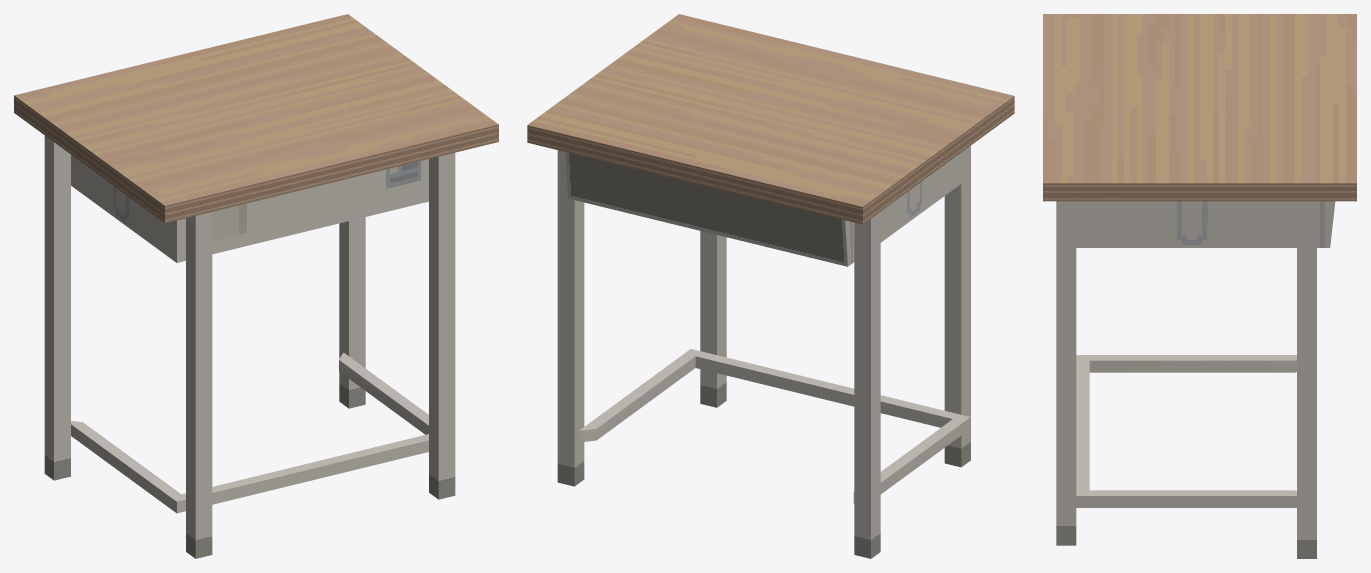
The model's file is GobelinsJPO.glb.
3 views of the same model, side by side, from view 1: azimuth 30°, elevation 25°; view 2: azimuth 150°, elevation 25°; view 3: azimuth 270°, elevation 25° (orthographic). The views are drawn at different scales.
Visible parts, largest first — view 1: part_0; view 2: part_0; view 3: part_0.
Part boxes in pixels (x1,y1,x2,y2): part_0: (14, 14, 498, 558); part_0: (527, 14, 1014, 558); part_0: (1043, 14, 1356, 558).
Size of the model in its own units: 0.72 by 0.756 by 0.564.
1 material, 1 textured.
